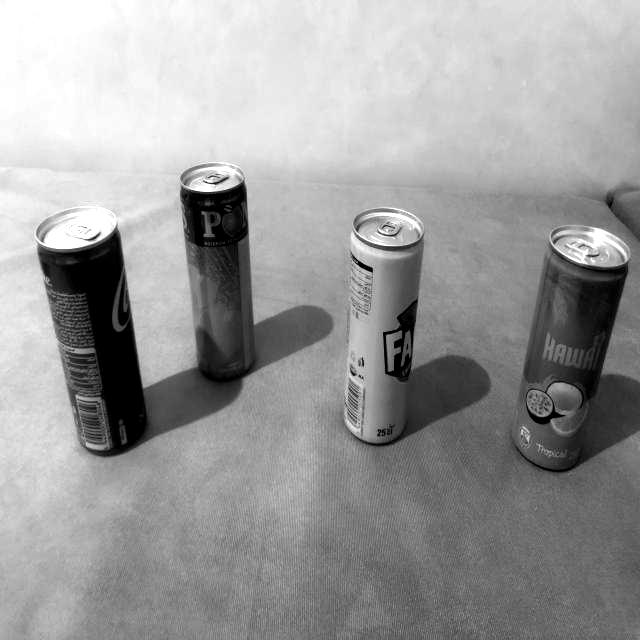metal: (26, 198, 154, 463), (505, 217, 632, 482), (342, 195, 428, 470), (172, 160, 261, 382)
